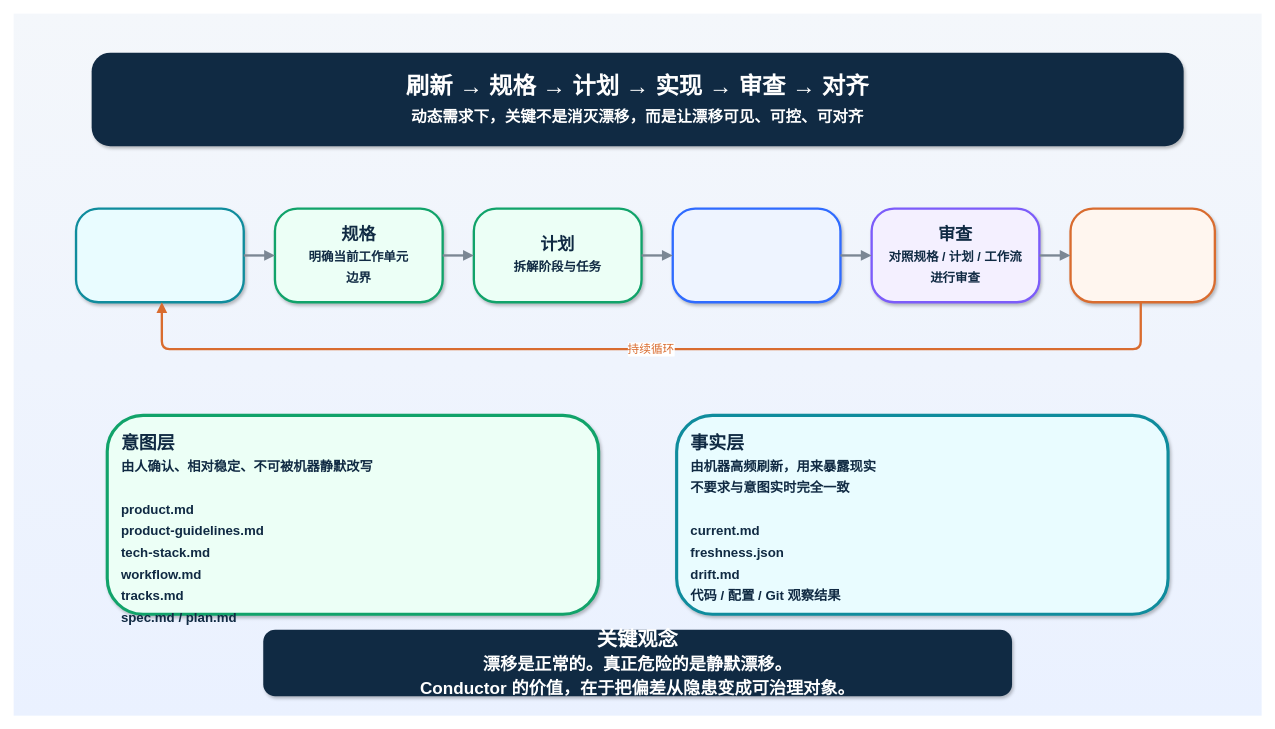
This 1275x729 diagram has some shape labels left out. The centre of each missing label's shape, as x and y in pixels:
"刷新 从代码 / 配置 / Git 提取事实" goes at (x=160, y=256).
"实现 按计划推进代码实现" goes at (x=757, y=256).
"对齐 显式处理意图与事实 的分叉" goes at (x=1143, y=256).
